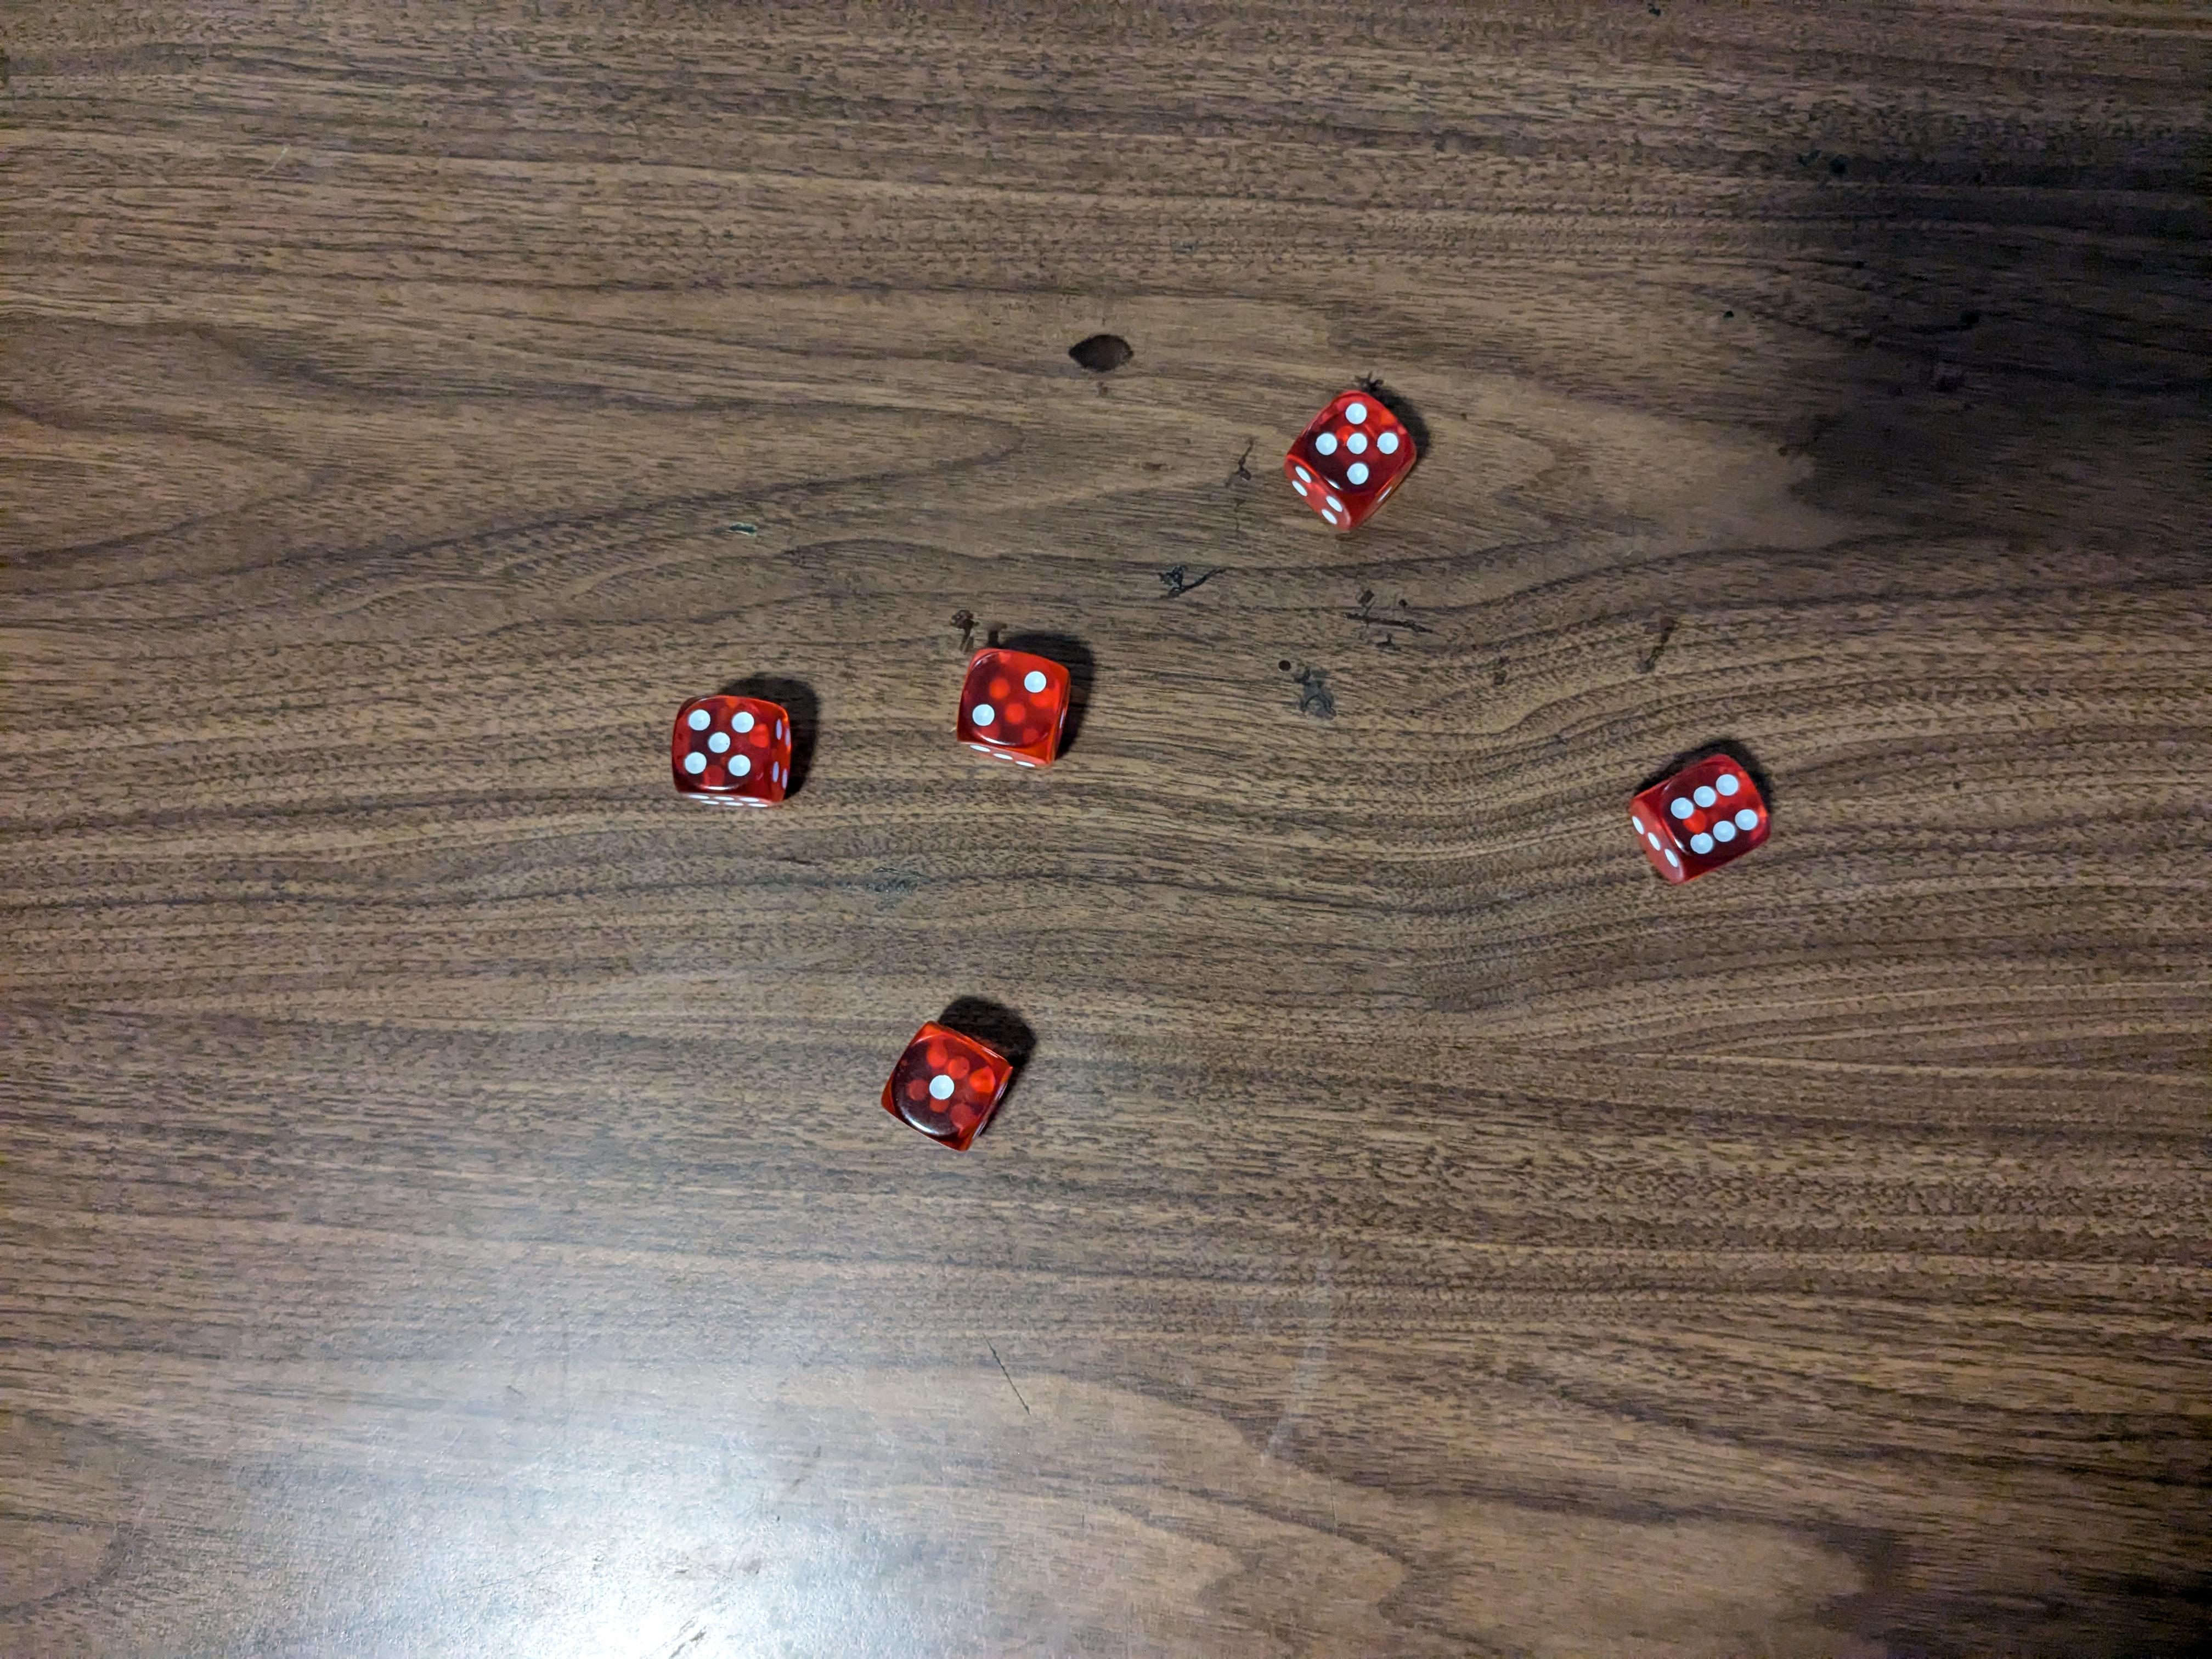five: (1287, 394, 1418, 532), (667, 694, 799, 814)
one: (881, 1019, 1015, 1154)
six: (1627, 751, 1777, 884)
two: (954, 647, 1073, 770)
